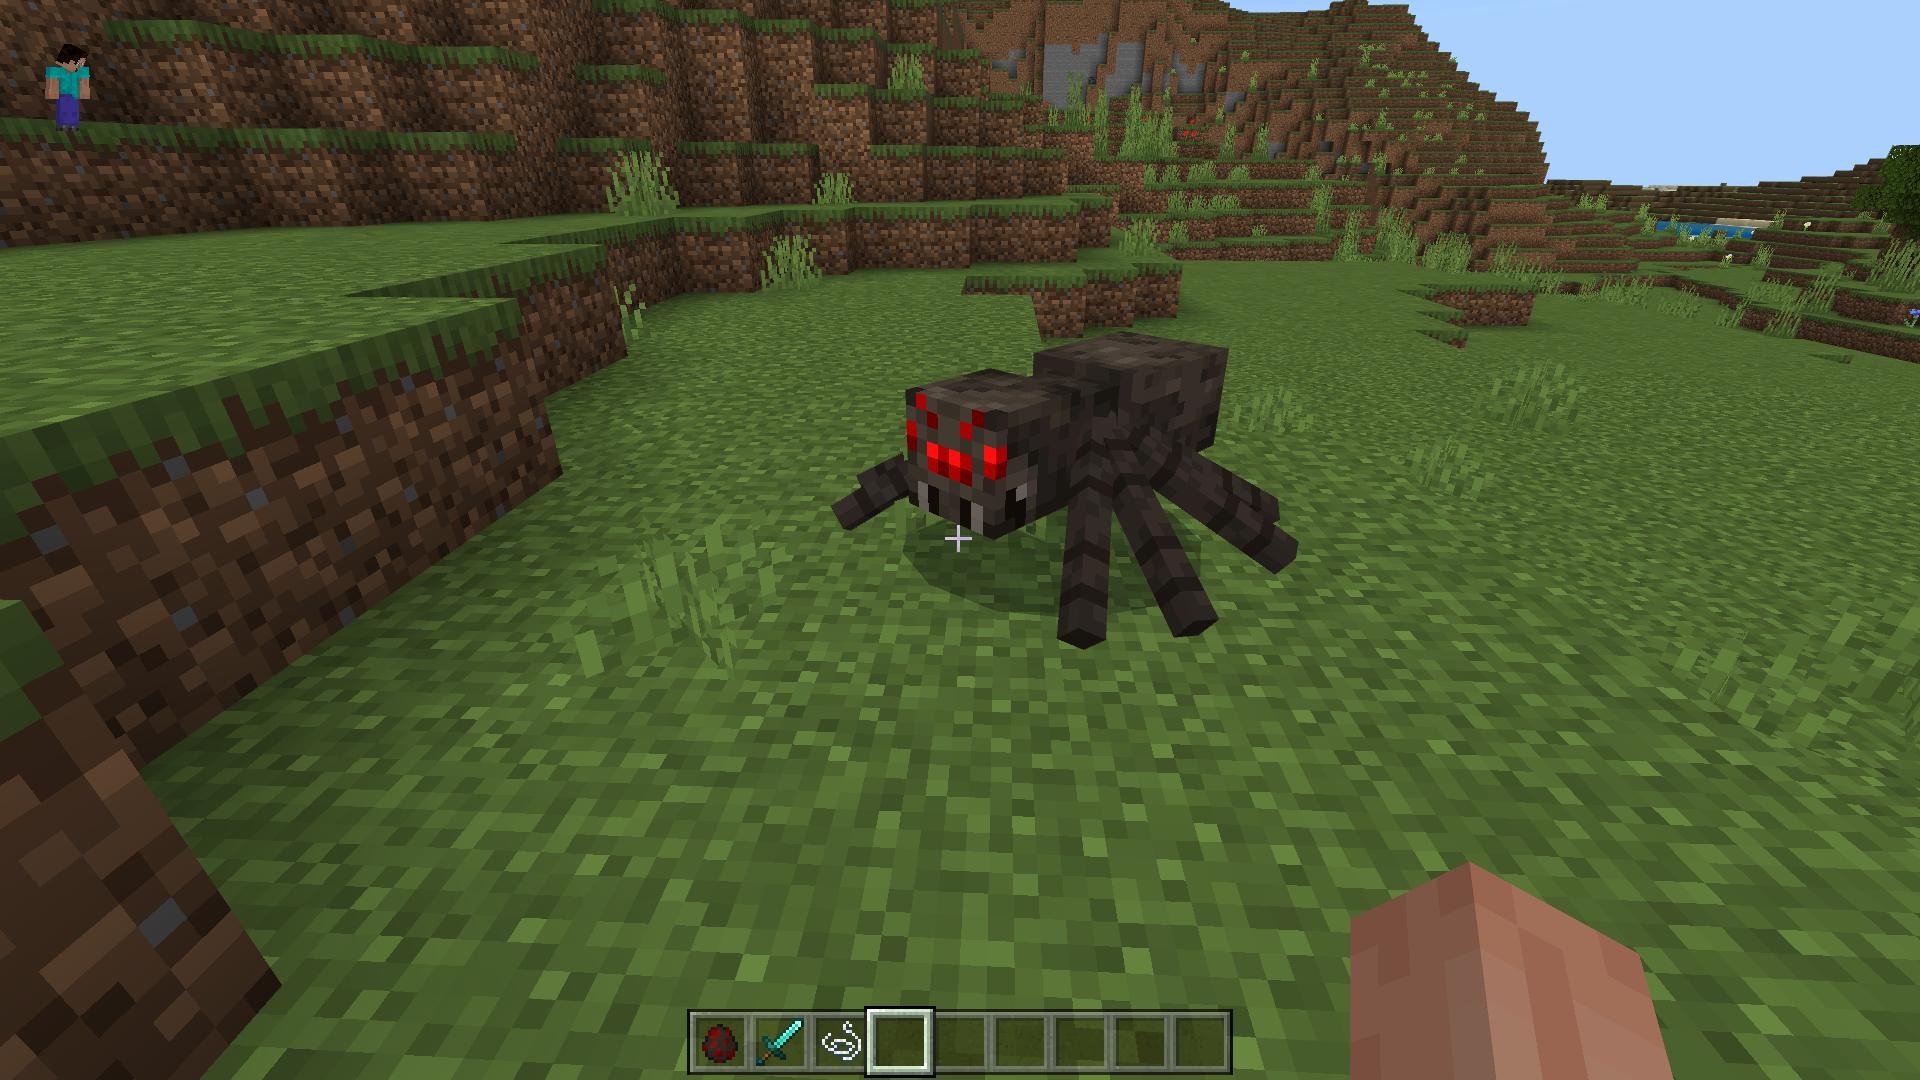spider: (827, 330, 1303, 653)
